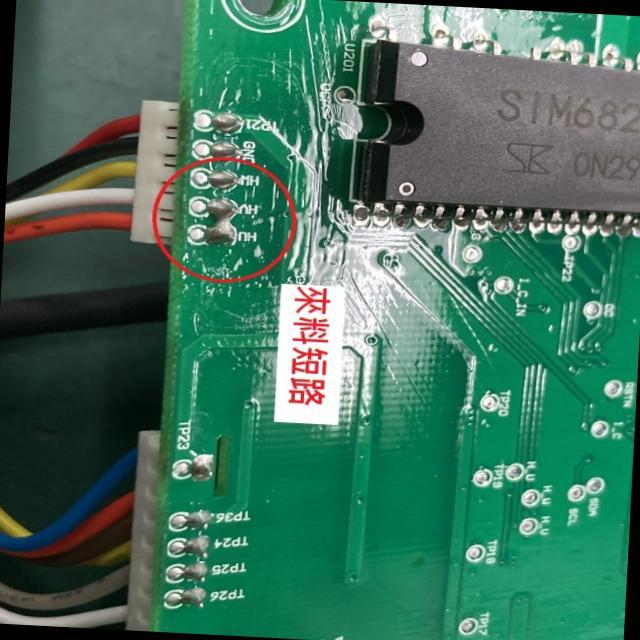Short_circuit: (206, 199, 238, 244)
